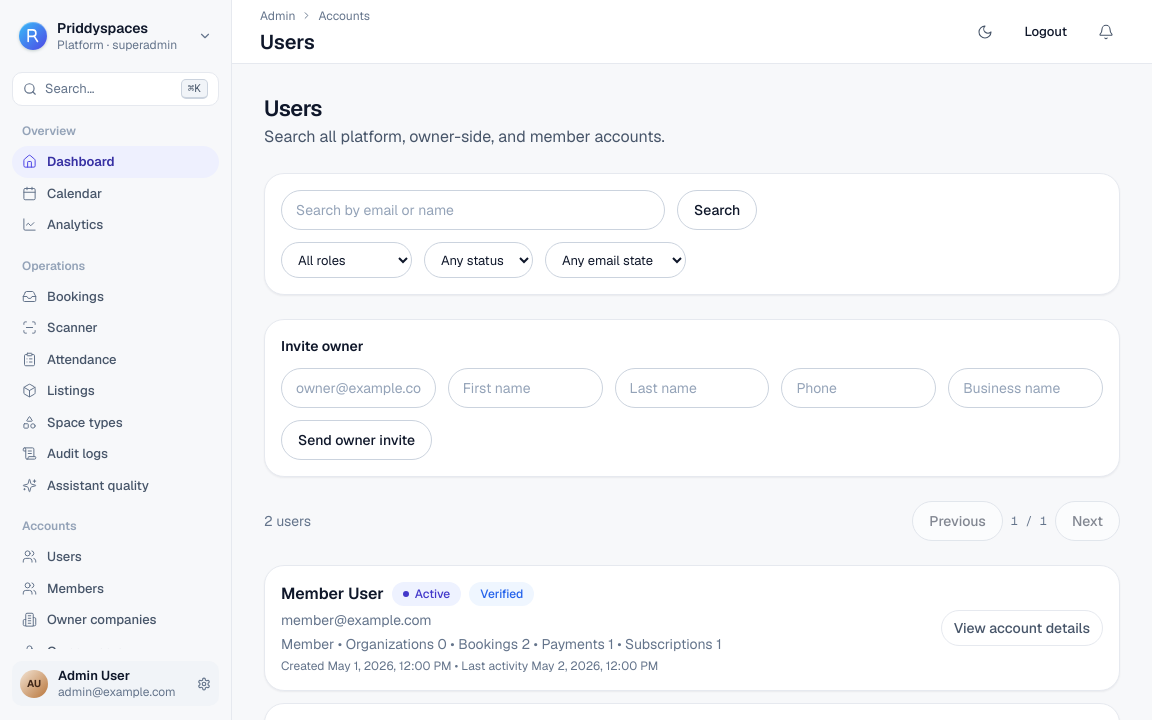
Test: AdminUsersPage › lets superadmins send owner invites from basic account info
Type "invited@example.com" into the field named "Owner email" at (358, 388), box [281,368,436,408]
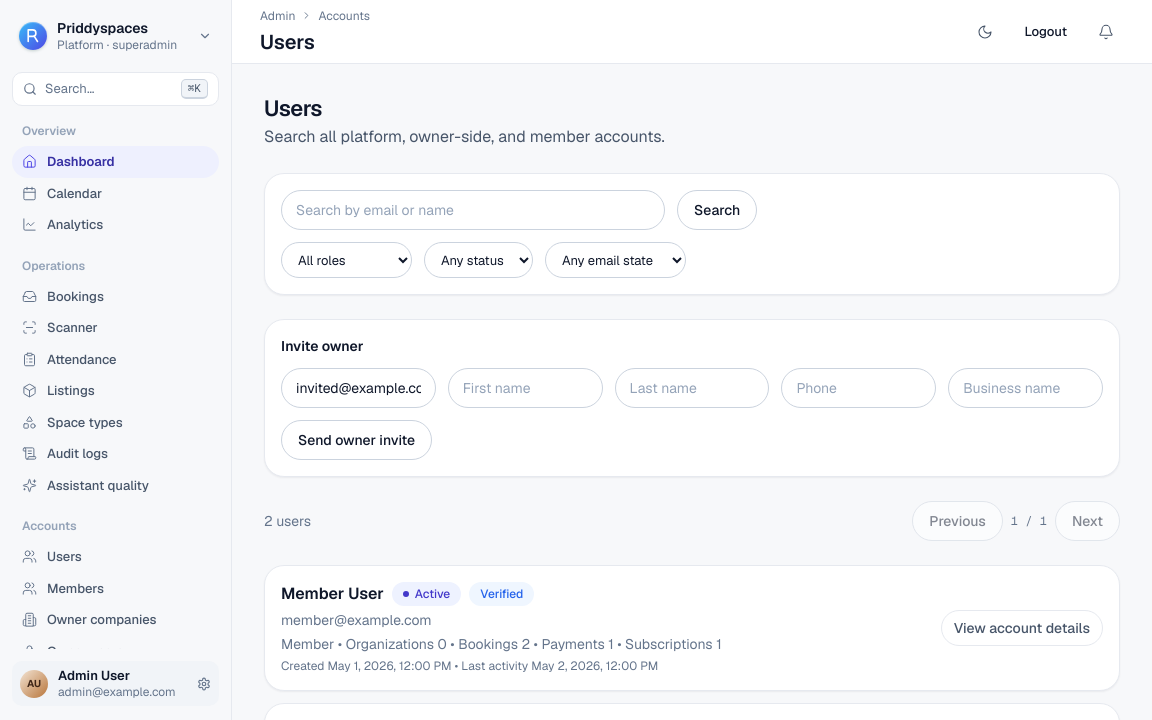
Type "Invited" into the field named "Owner first name" at (525, 388), box [448,368,603,408]
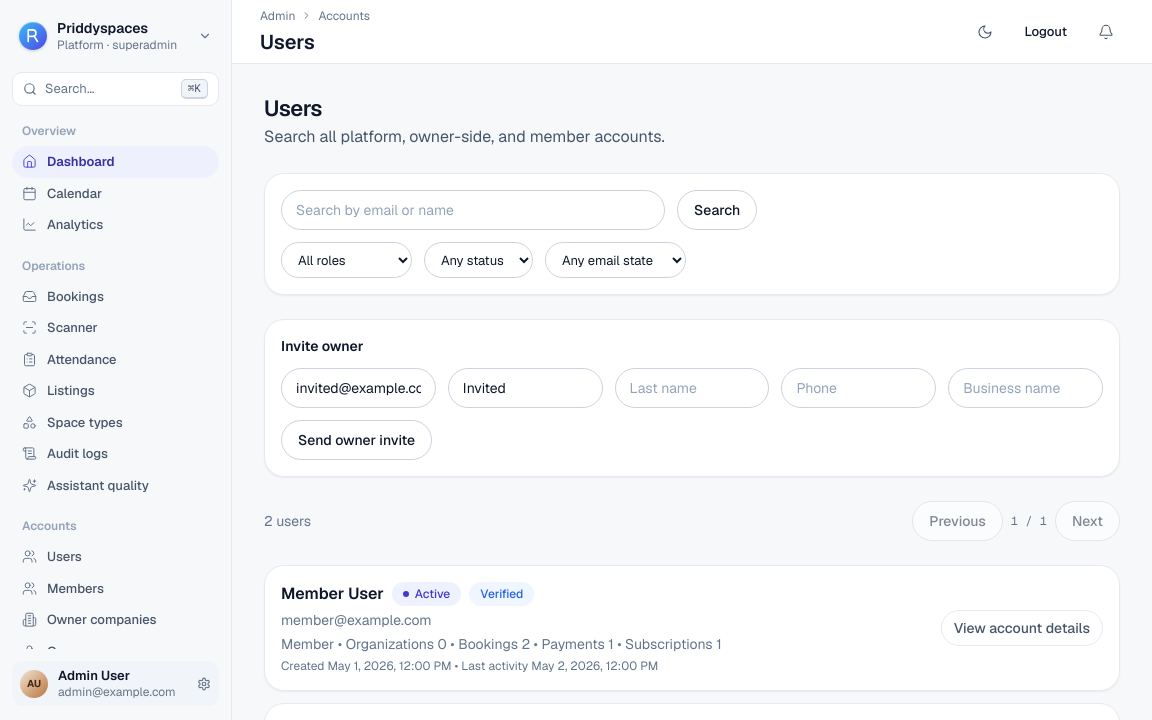
Type "Owner" into the field named "Owner last name" at (692, 388), box [615,368,769,408]
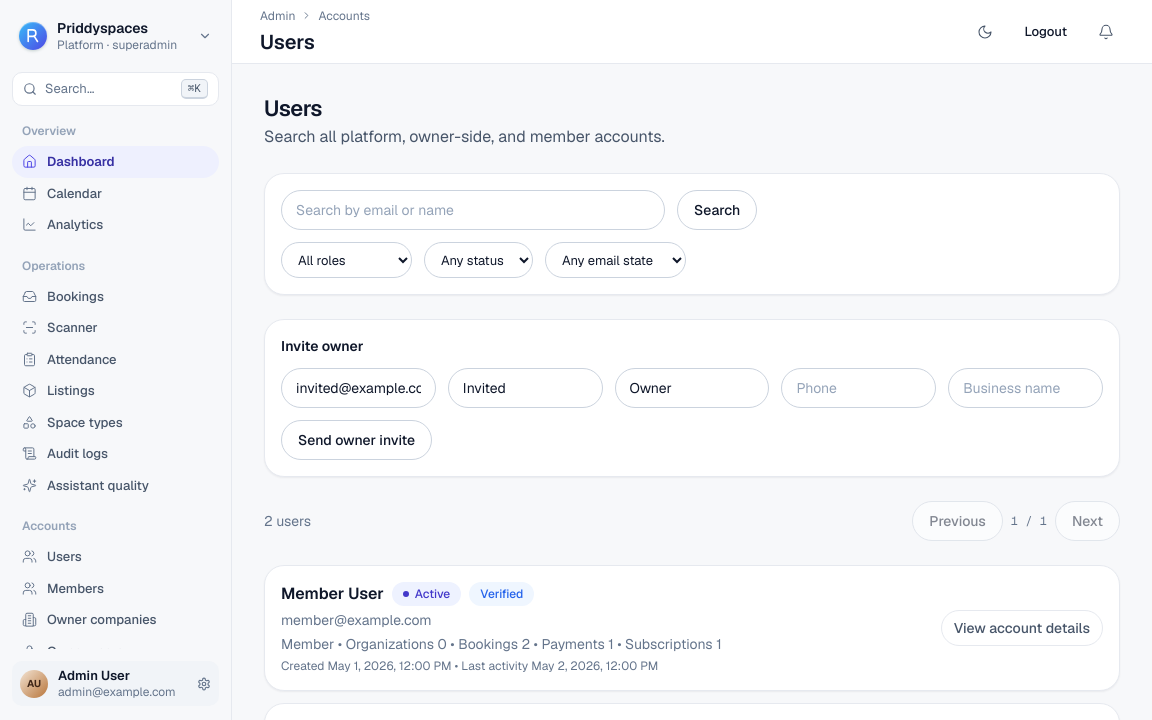
Type "+1 555 111 2222" into the field named "Owner phone" at (859, 388), box [781,368,936,408]
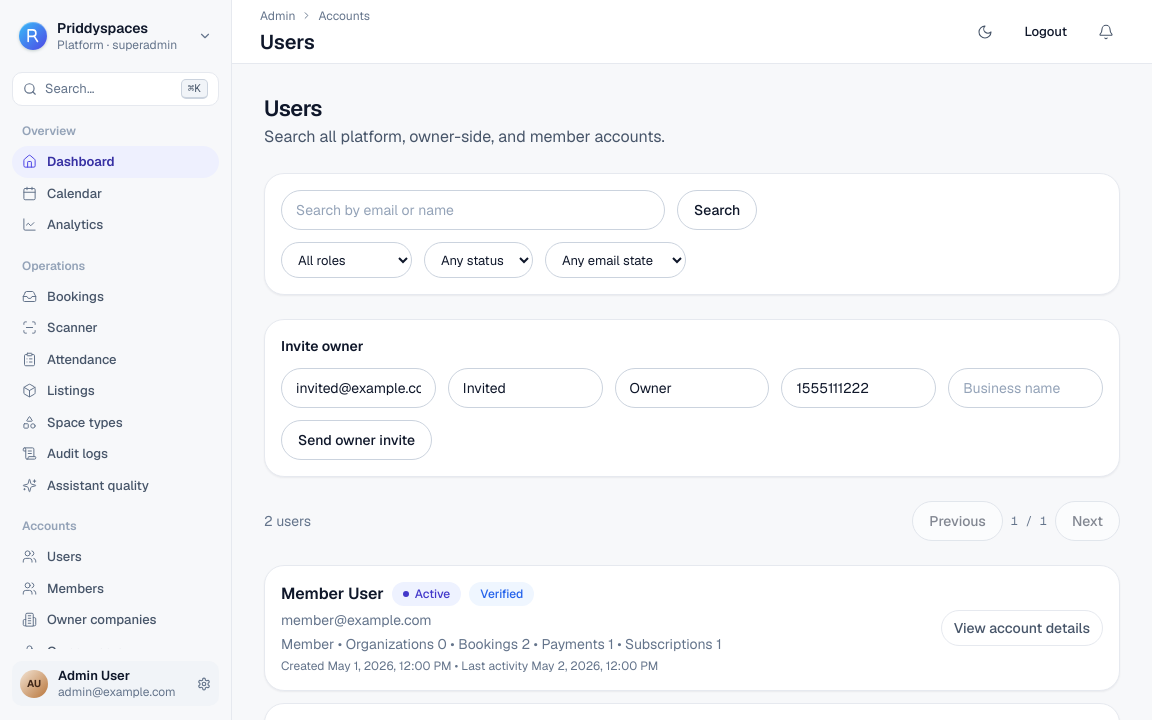
// Input strips formatting and caps at 10 digits before submit.
Type "Invited Works" into the field named "Owner business name" at (1026, 388), box [948,368,1103,408]
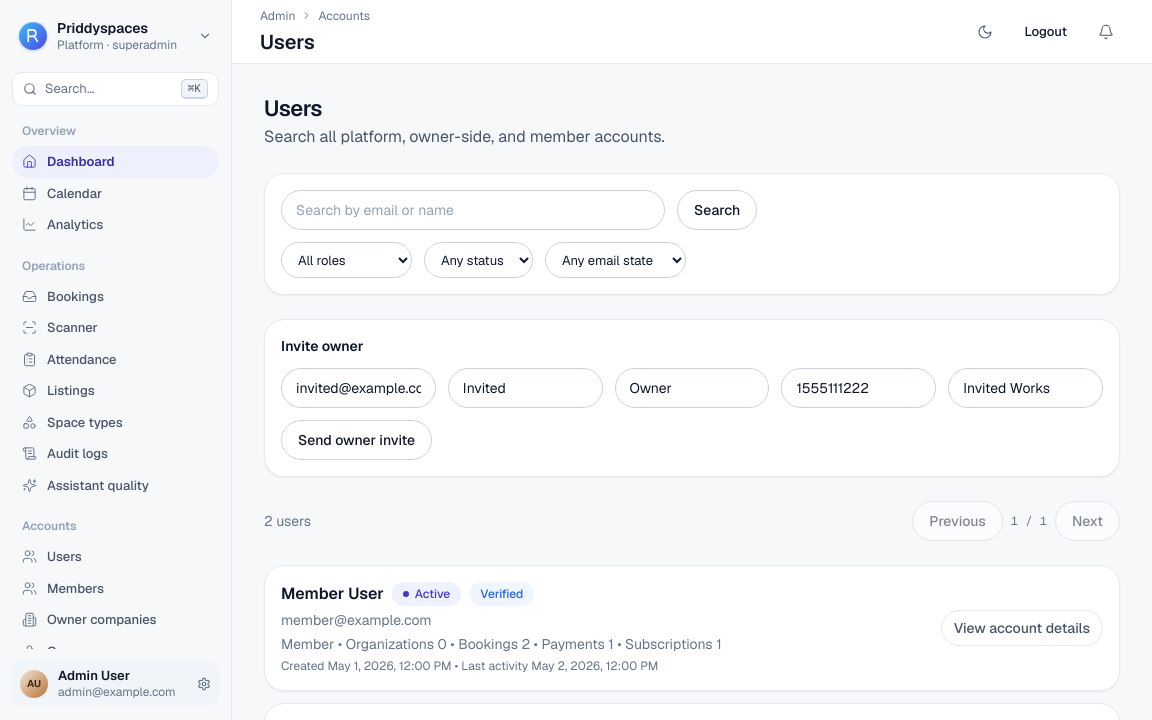
Click the button "Send owner invite" at (357, 440), box [281,420,432,460]
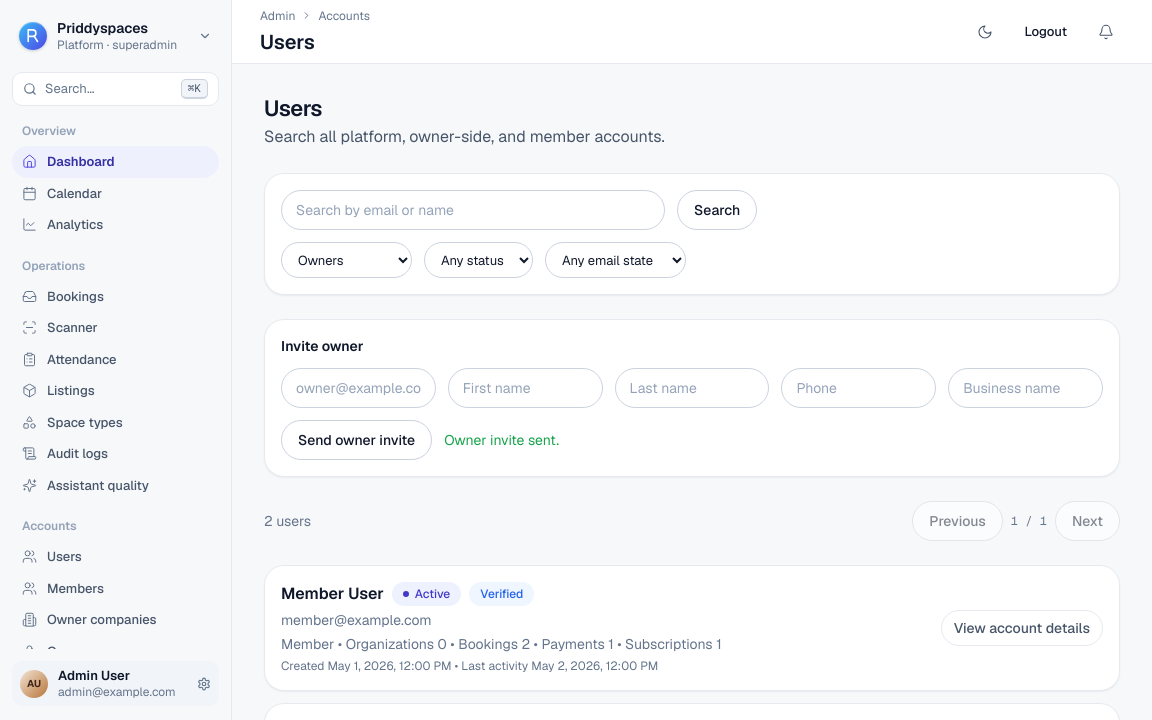
Expected: the text "Owner invite sent." is shown, [444,430,559,450]
